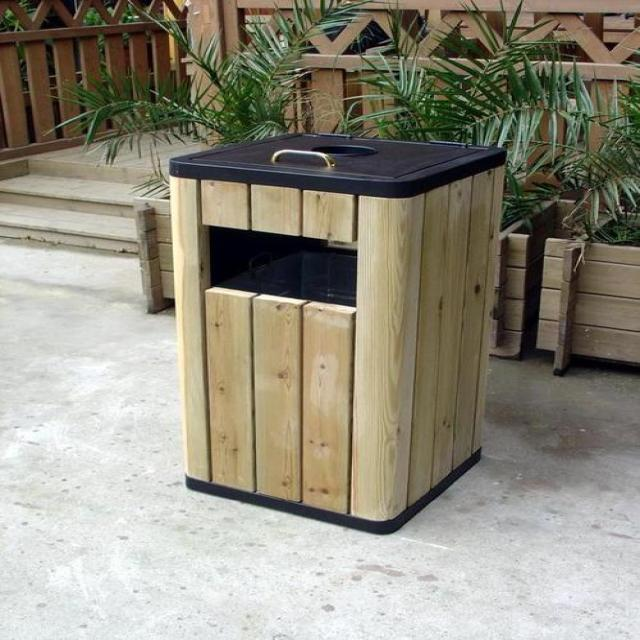garbage_bin: (167, 130, 506, 534)
